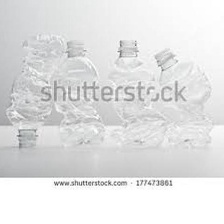bottle: (3, 27, 69, 150), (104, 35, 165, 149), (151, 46, 217, 149), (48, 36, 108, 149)
